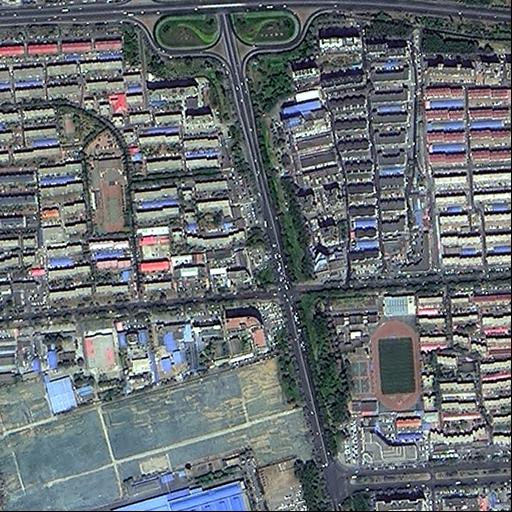school: (288, 287, 420, 418), (83, 124, 133, 233)
